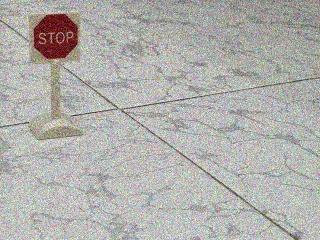stop: (20, 5, 86, 78)
